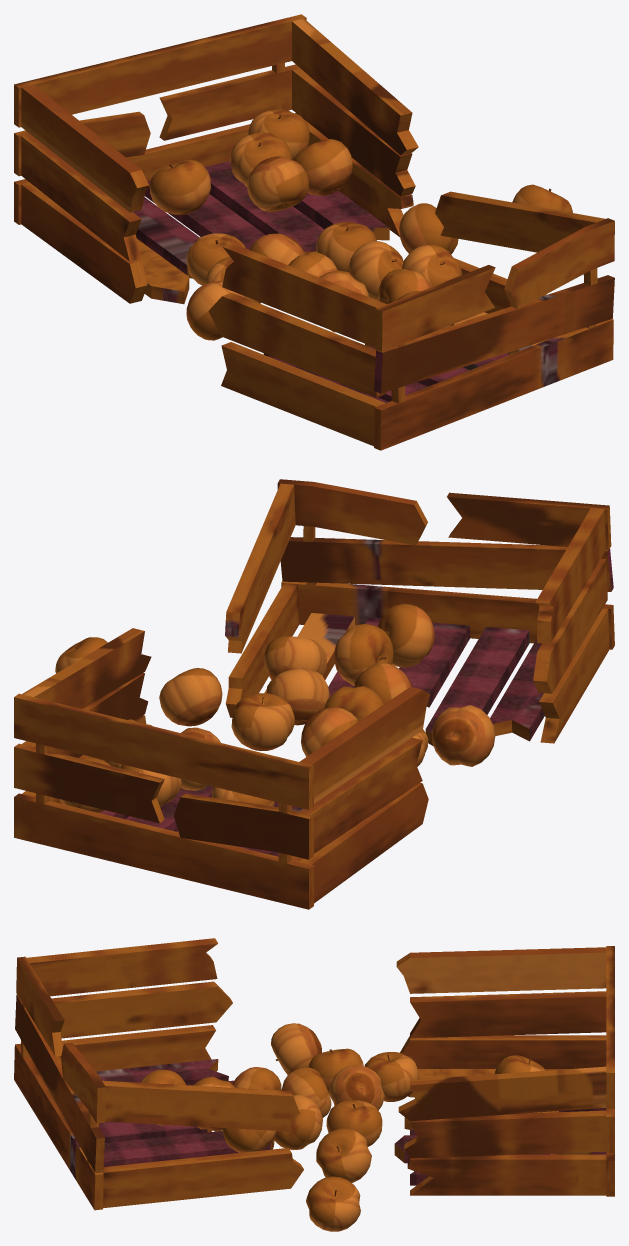
Rendered from broken fruit crate_10.fbx.
The picture shows the model from 3 angles, top to bottom: view 1: azimuth 30°, elevation 25°; view 2: azimuth 150°, elevation 25°; view 3: azimuth 270°, elevation 25°; orthographic projection. The views are drawn at different scales.
Parts seen in each view (by area): view 1: Cube.041, Cube.040, Plane.1985, Plane.1982, Plane.1983, Plane.1978, Plane.1977, Plane.1986, Plane.1992, Plane.1980, Plane.1984, Plane.1988 (+6 smaller); view 2: Cube.041, Cube.040, Plane.1988, Plane.1992, Plane.1977, Plane.1981, Plane.1990, Plane.1978, Plane.1984, Plane.1979, Plane.1975, Plane.1987 (+2 smaller); view 3: Cube.040, Cube.041, Plane.1989, Plane.1977, Plane.1988, Plane.1979, Plane.1976, Plane.1992, Plane.1978, Plane.1987, Plane.1991, Plane.1984 (+3 smaller).
Part boxes in pixels (x1=…): Cube.041: x1=14, y1=14, x2=418, y2=304; Cube.040: x1=208, y1=191, x2=614, y2=450; Plane.1985: x1=247, y1=156, x2=308, y2=211; Plane.1982: x1=149, y1=159, x2=210, y2=214; Plane.1983: x1=293, y1=139, x2=352, y2=195; Plane.1978: x1=348, y1=241, x2=403, y2=300; Plane.1977: x1=399, y1=203, x2=458, y2=254; Plane.1986: x1=230, y1=132, x2=292, y2=186; Plane.1992: x1=316, y1=222, x2=376, y2=272; Plane.1980: x1=248, y1=109, x2=309, y2=159; Plane.1984: x1=402, y1=244, x2=462, y2=286; Plane.1988: x1=186, y1=280, x2=243, y2=340; Cube.041: x1=14, y1=628, x2=430, y2=909; Cube.040: x1=225, y1=479, x2=614, y2=746; Plane.1988: x1=432, y1=705, x2=495, y2=766; Plane.1992: x1=231, y1=693, x2=294, y2=750; Plane.1977: x1=159, y1=668, x2=222, y2=726; Plane.1981: x1=378, y1=603, x2=434, y2=667; Plane.1990: x1=334, y1=623, x2=393, y2=685; Plane.1978: x1=266, y1=668, x2=329, y2=725; Plane.1984: x1=264, y1=636, x2=326, y2=679; Plane.1979: x1=301, y1=707, x2=358, y2=756; Plane.1975: x1=354, y1=662, x2=411, y2=704; Plane.1987: x1=324, y1=686, x2=383, y2=721; Cube.040: x1=14, y1=938, x2=303, y2=1210; Cube.041: x1=394, y1=946, x2=614, y2=1196; Plane.1989: x1=306, y1=1176, x2=360, y2=1231; Plane.1977: x1=316, y1=1128, x2=371, y2=1182; Plane.1988: x1=271, y1=1023, x2=321, y2=1074; Plane.1979: x1=329, y1=1065, x2=384, y2=1110; Plane.1976: x1=364, y1=1052, x2=418, y2=1101; Plane.1992: x1=326, y1=1100, x2=382, y2=1146; Plane.1978: x1=273, y1=1094, x2=322, y2=1149; Plane.1987: x1=281, y1=1067, x2=331, y2=1117; Plane.1991: x1=309, y1=1048, x2=363, y2=1092; Plane.1984: x1=222, y1=1128, x2=276, y2=1152.
Bounding box in the file's own units: 38.99 × 13.31 × 53.78.
